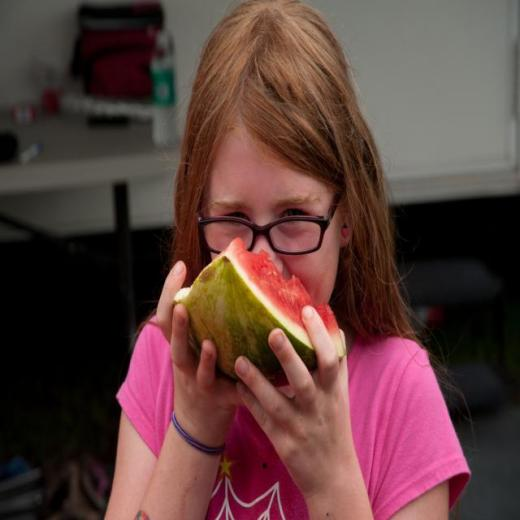Cherry: (171, 236, 347, 383)
